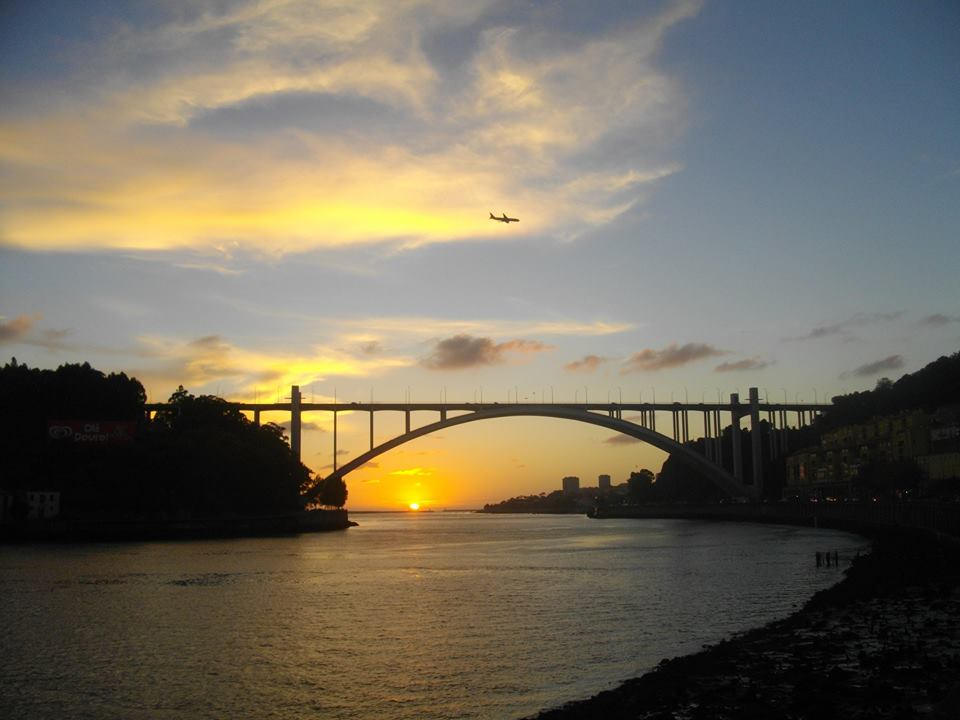arrabida: (219, 384, 833, 505)
